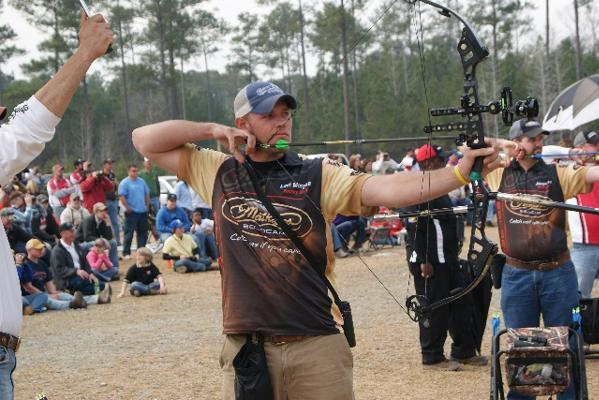person: (137, 77, 512, 400)
